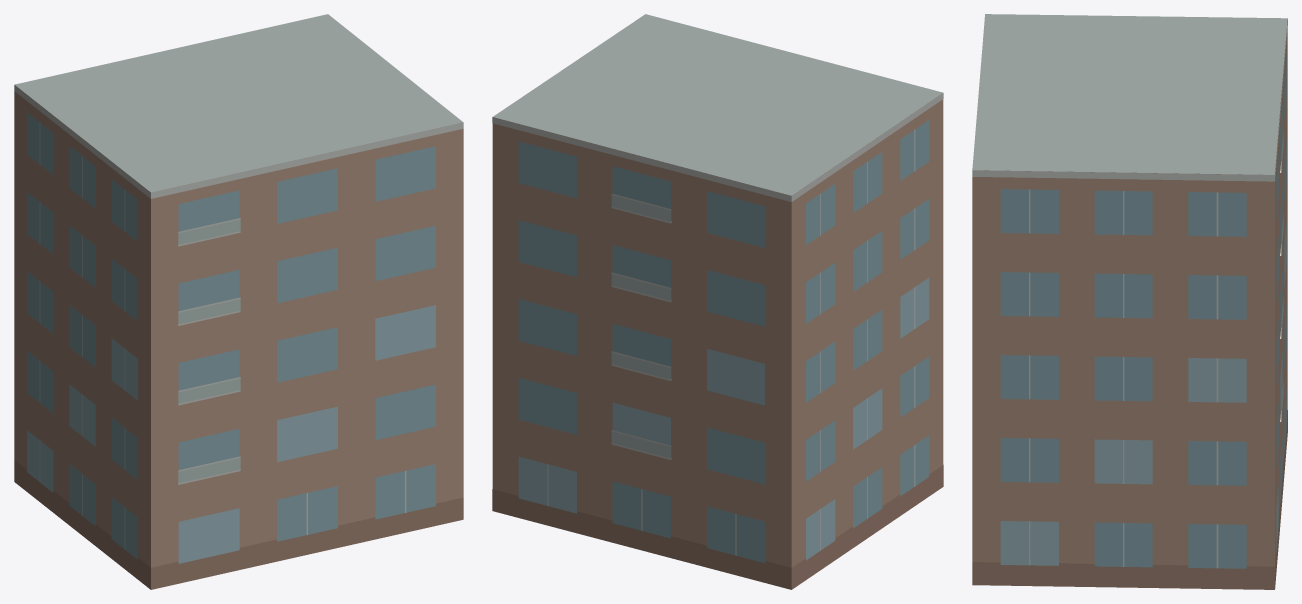
File: survey-upis-32835431.glb
3 renders of one model, left to right at view 1: azimuth 30°, elevation 25°; view 2: azimuth 150°, elevation 25°; view 3: azimuth 270°, elevation 25°, orthographic. The views are drawn at different scales.
Visible parts, largest first — view 1: survey-upis-32835431.tmp; view 2: survey-upis-32835431.tmp; view 3: survey-upis-32835431.tmp.
Part boxes in pixels (x1,y1,x2,y2): survey-upis-32835431.tmp: (14, 14, 463, 589); survey-upis-32835431.tmp: (492, 14, 943, 589); survey-upis-32835431.tmp: (972, 14, 1287, 589).
Size of the model in its own units: 12.7 by 15.25 by 10.52.
